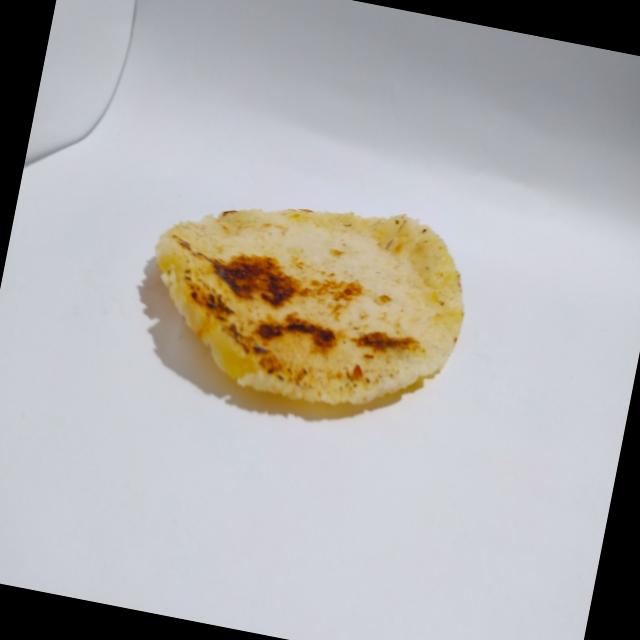Mbeju: (114, 160, 496, 450)
